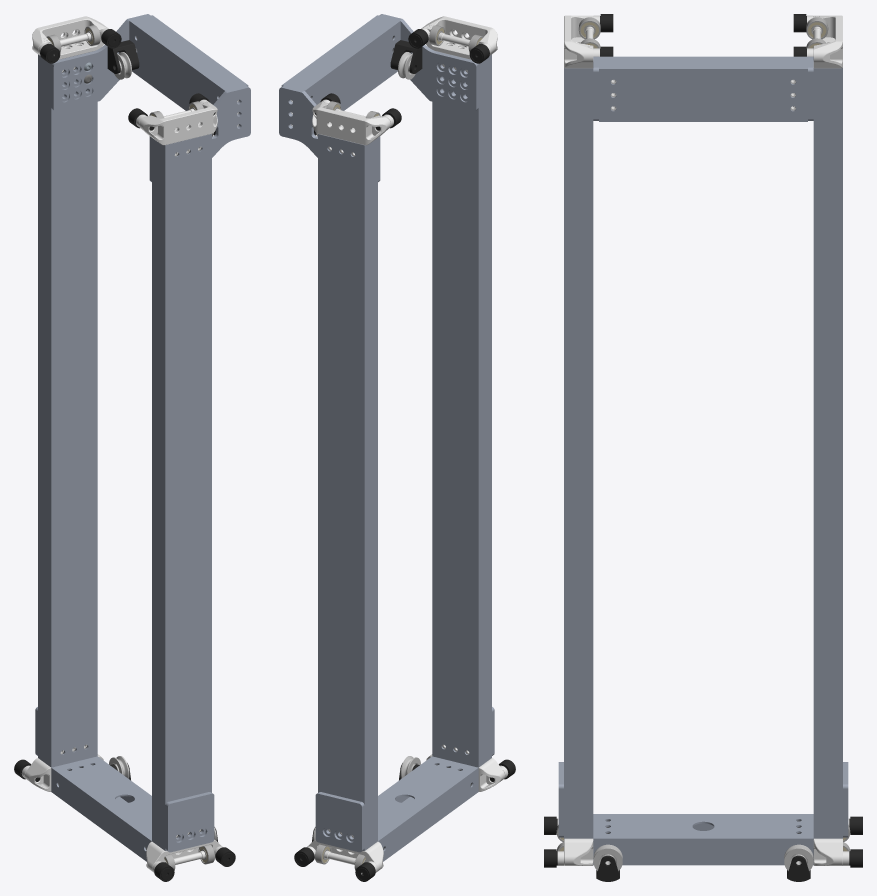
3 views of the same model, side by side, from view 1: azimuth 30°, elevation 25°; view 2: azimuth 150°, elevation 25°; view 3: azimuth 270°, elevation 25° (orthographic). The views are drawn at different scales.
Parts seen in each view (by area): view 1: ELE-1-front, ELE-1-back, SDS Elevator Block (×4), ELE-1-bottom, ELE-1-top, ELE-1-top-back-bracket, ELE-hardstop, ELE-1-top-front-bracket, ELE-cross-back-pulley-guard; view 2: ELE-1-back, ELE-1-front, SDS Elevator Block (×4), ELE-1-bottom, ELE-1-top, ELE-1-top-front-bracket, ELE-hardstop, ELE-1-top-back-bracket, ELE-cross-front-pulley-guard; view 3: ELE-1-front, ELE-1-back, ELE-1-top, ELE-1-bottom, SDS Elevator Block (×4).
Boxes of the visible parts, x1,y1,x2,y2 form: ELE-1-front: (152,134,211,850); ELE-1-back: (38,51,97,767); SDS Elevator Block (×4): (14,16,235,881); ELE-1-bottom: (51,756,151,861); ELE-1-top: (129,15,248,110); ELE-1-top-back-bracket: (51,14,150,111); ELE-hardstop: (165,792,214,852); ELE-1-top-front-bracket: (149,86,250,181); ELE-cross-back-pulley-guard: (107,40,139,73); ELE-1-back: (318,134,377,850); ELE-1-front: (432,51,491,767); SDS Elevator Block (×4): (294,16,515,881); ELE-1-bottom: (378,756,478,861); ELE-1-top: (281,15,400,110); ELE-1-top-front-bracket: (379,14,478,111); ELE-hardstop: (315,792,364,852); ELE-1-top-back-bracket: (279,86,380,181); ELE-cross-front-pulley-guard: (390,40,422,73); ELE-1-front: (564,68,593,838); ELE-1-back: (813,68,842,838); ELE-1-top: (599,56,807,121); ELE-1-bottom: (593,814,813,865); SDS Elevator Block (×4): (544,14,862,867).
Bounding box in the file's own units: 0.1239 × 0.7921 × 0.276.
